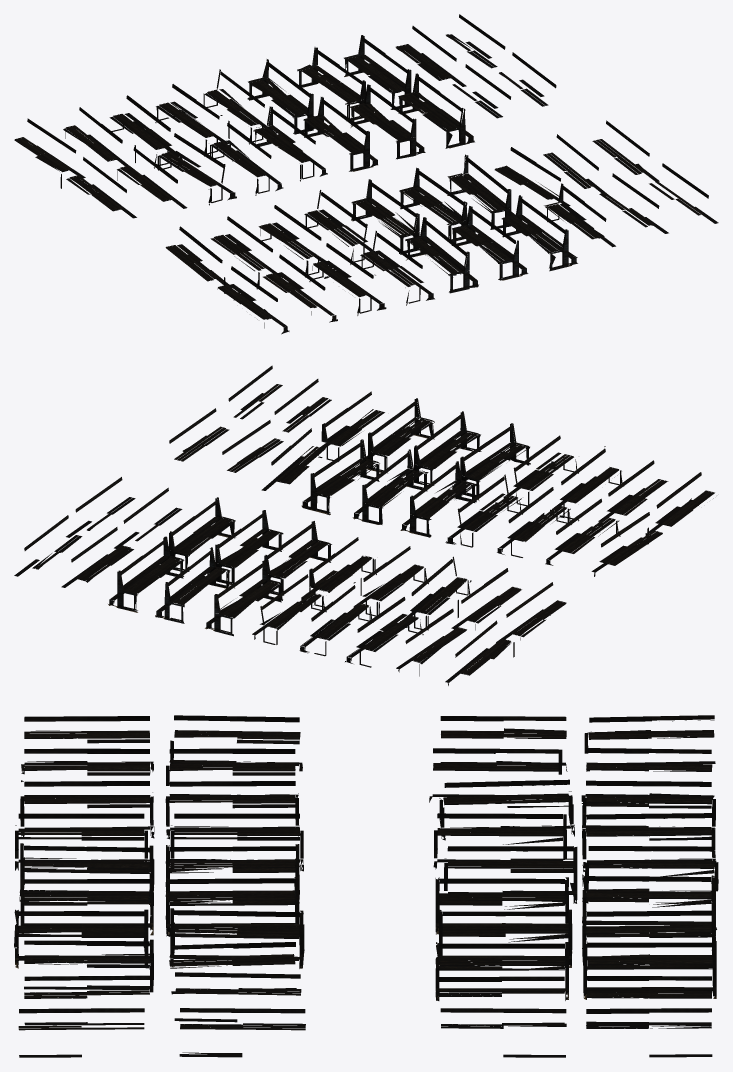
File: Seats_two.obj
3 renders of one model, top to bottom at view 1: azimuth 30°, elevation 25°; view 2: azimuth 150°, elevation 25°; view 3: azimuth 270°, elevation 25°, orthographic. The views are drawn at different scales.
Visible parts, largest first — view 1: Plane.001_0.007; view 2: Plane.001_0.007; view 3: Plane.001_0.007.
Boxes of the visible parts, box(x1,y1,x2,y2) form: Plane.001_0.007: box(14, 14, 718, 334); Plane.001_0.007: box(14, 365, 714, 685); Plane.001_0.007: box(14, 715, 718, 1057).
Size of the model in its own units: 9.71 by 0.8107 by 9.28.
